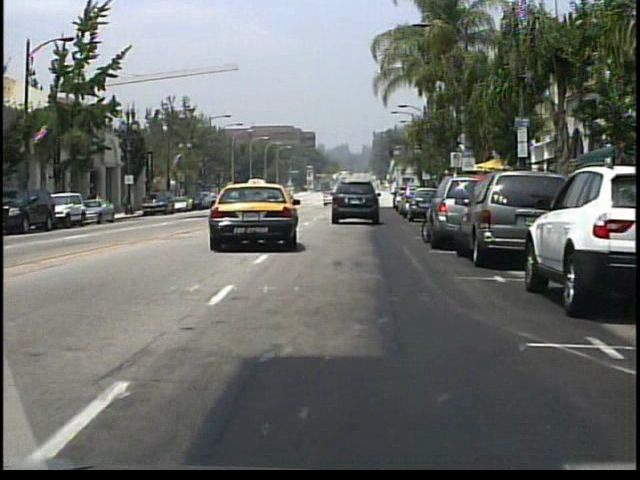person: (87, 187, 99, 216), (95, 189, 106, 215)
